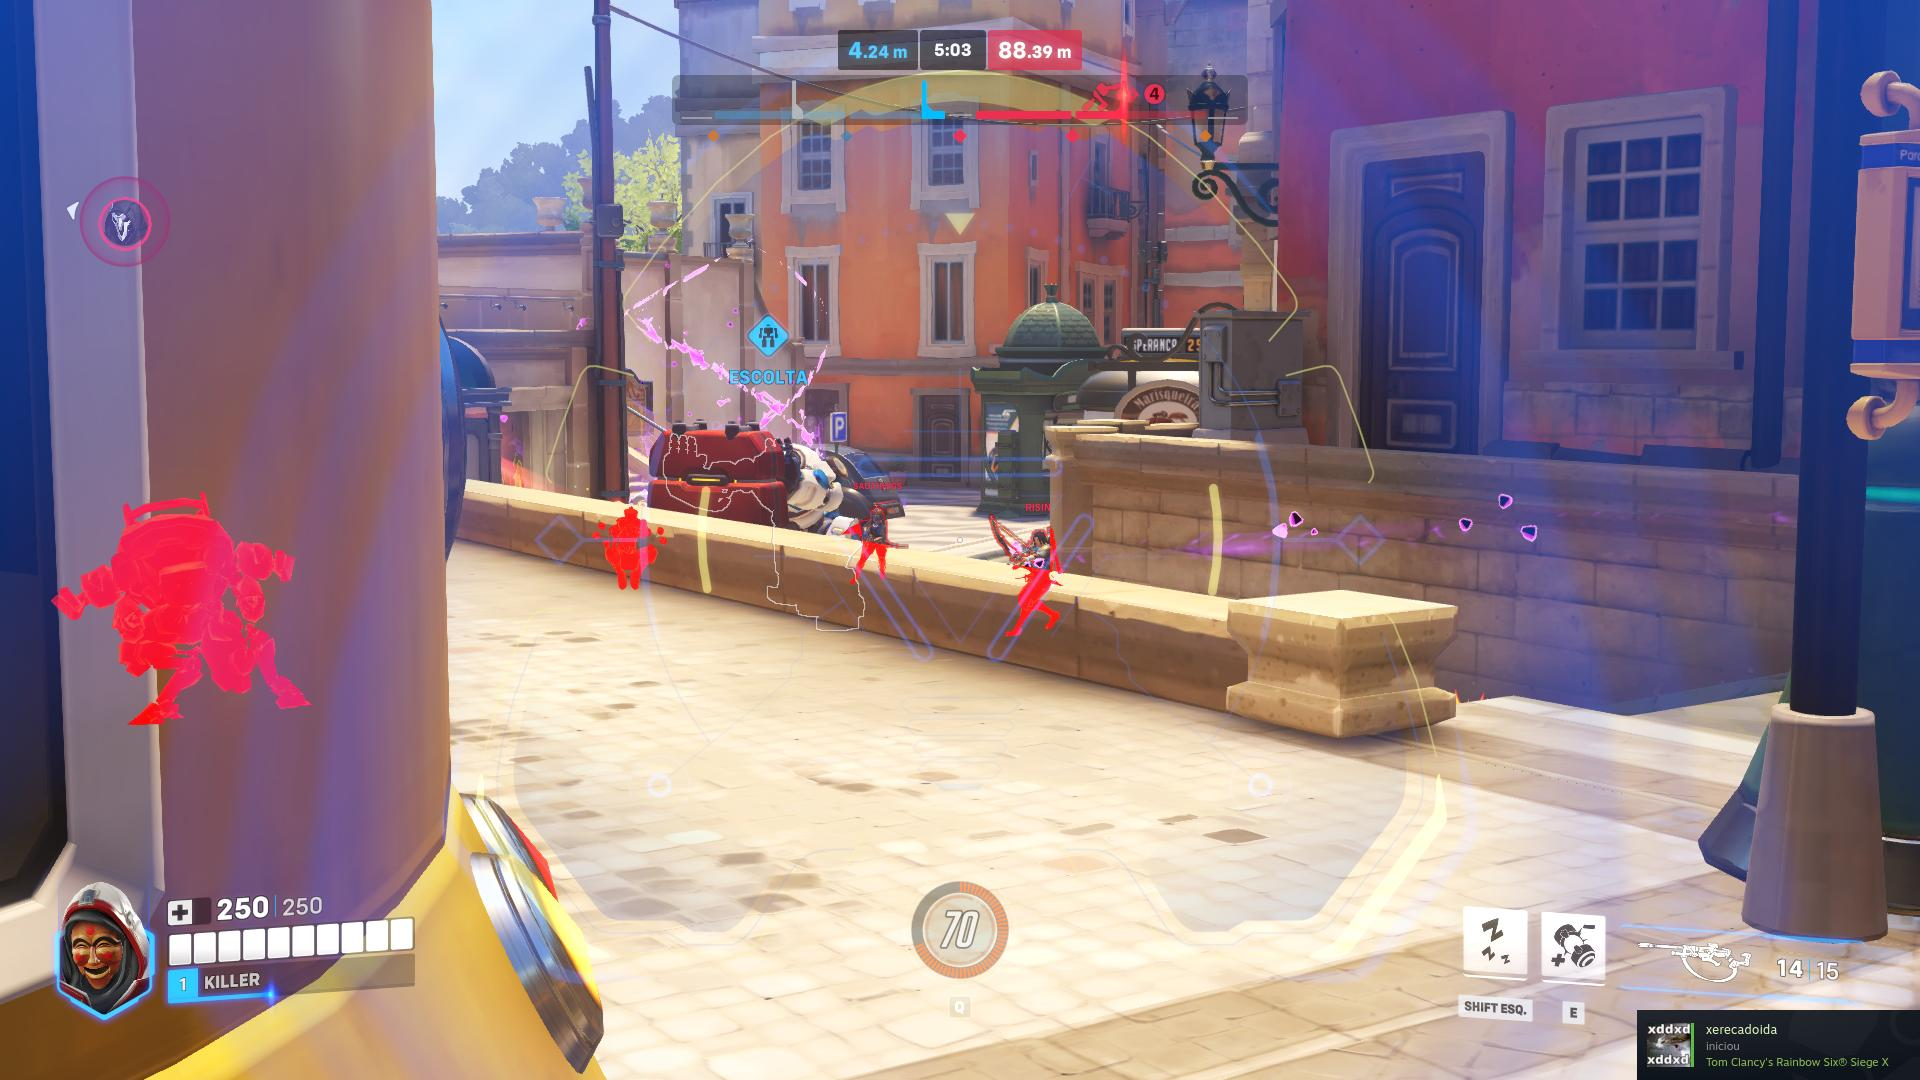enemy: (1007, 526, 1050, 571), (861, 506, 889, 546)
